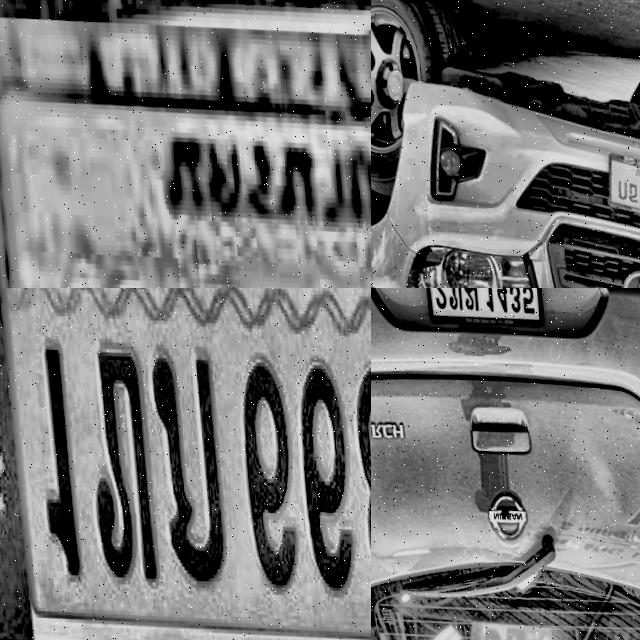license-plate: (0, 288, 371, 640), (0, 6, 371, 288), (416, 288, 547, 330), (599, 137, 640, 218)
